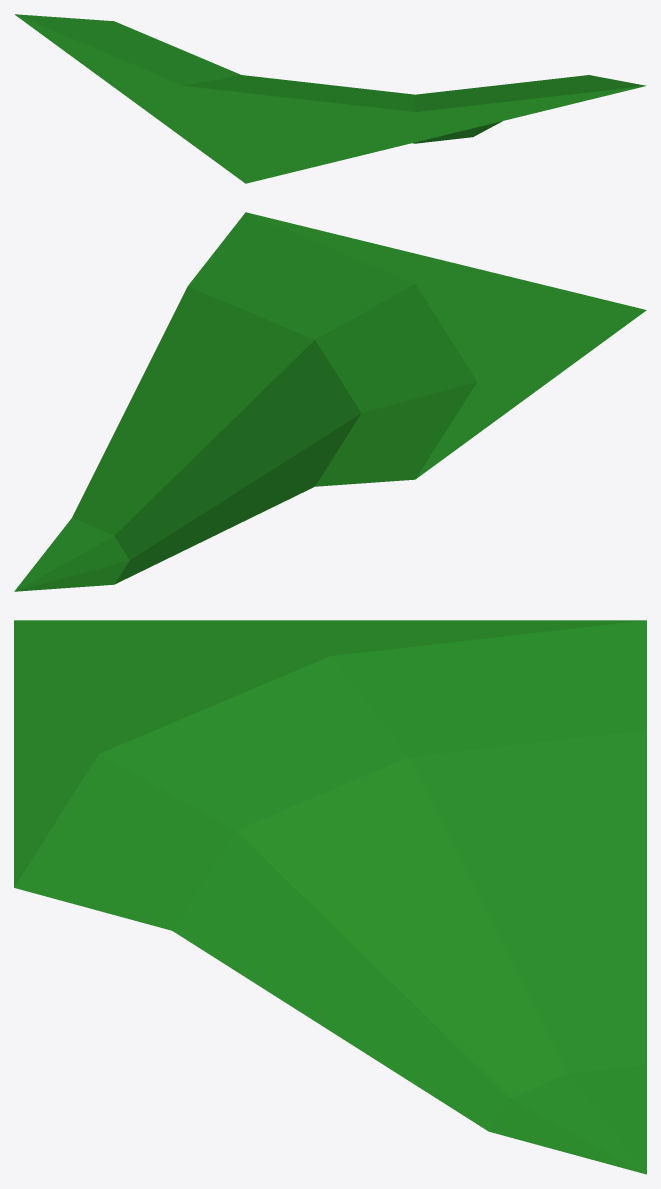
The model's file is Hilly_Terrain_Hill_Corner_Inner_2x2.obj.
3 views of the same model, one above another, from view 1: azimuth 30°, elevation 25°; view 2: azimuth 150°, elevation 25°; view 3: azimuth 270°, elevation 25° (orthographic). The views are drawn at different scales.
Parts seen in each view (by area): view 1: object1; view 2: object1; view 3: object1.
Part boxes in pixels (x1,y1,x2,y2): object1: [14, 14, 646, 183]; object1: [14, 212, 646, 591]; object1: [14, 620, 646, 1174].
Bounding box in the file's own units: 2 × 1 × 2.
